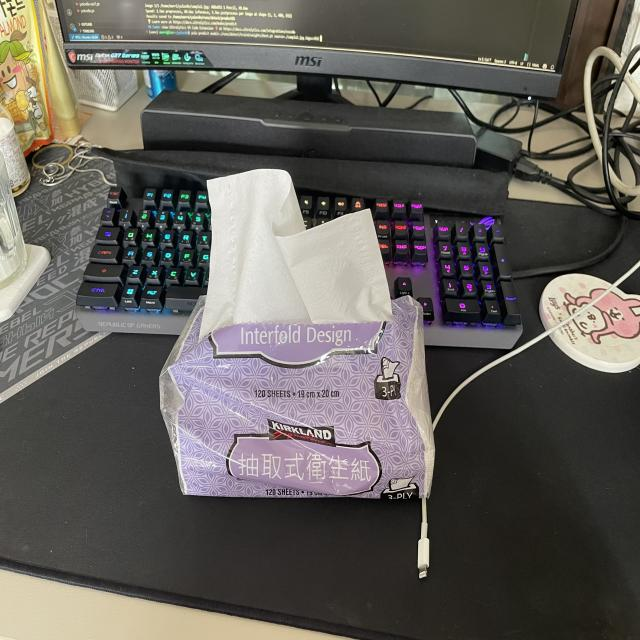tissue: (142, 162, 440, 511)
